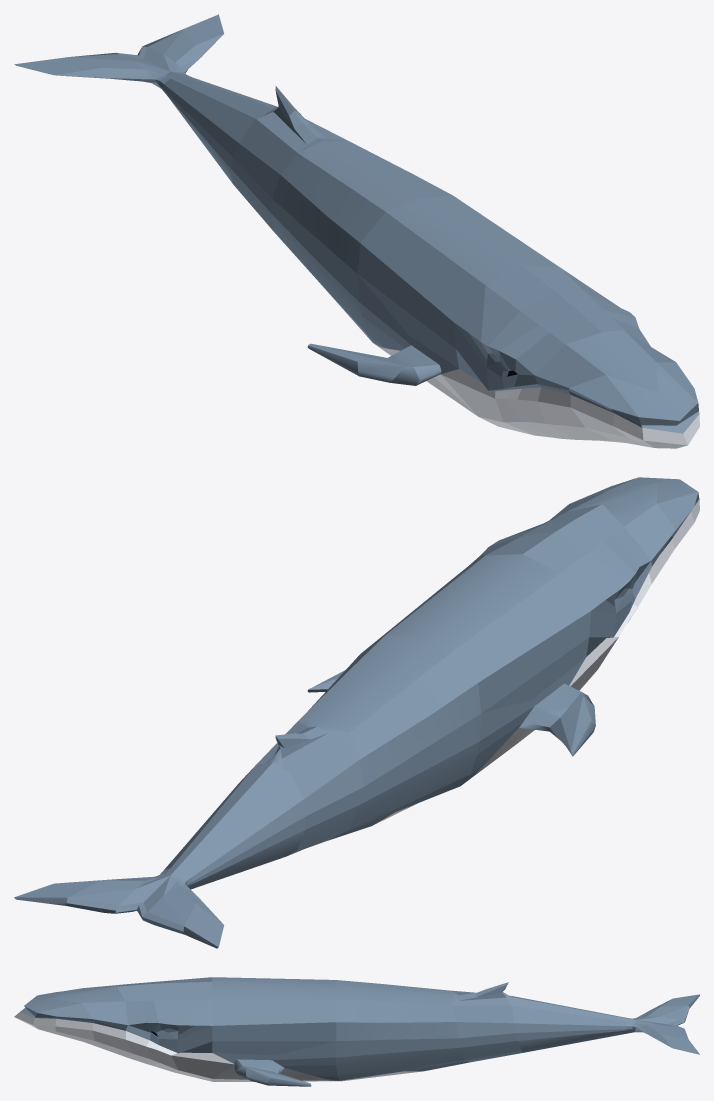
Rendered from クジラ.fbx.
3 renders of one model, top to bottom at view 1: azimuth 30°, elevation 25°; view 2: azimuth 150°, elevation 25°; view 3: azimuth 270°, elevation 25°, orthographic. The views are drawn at different scales.
Visible parts, largest first — view 1: Whale_Model; view 2: Whale_Model; view 3: Whale_Model.
Part boxes in pixels (left/top/right/bottom): Whale_Model: left=14, top=14, right=699, bottom=448; Whale_Model: left=14, top=477, right=699, bottom=948; Whale_Model: left=14, top=977, right=699, bottom=1086.
Bounding box in the file's own units: 0.2191 × 0.1289 × 0.8187.
